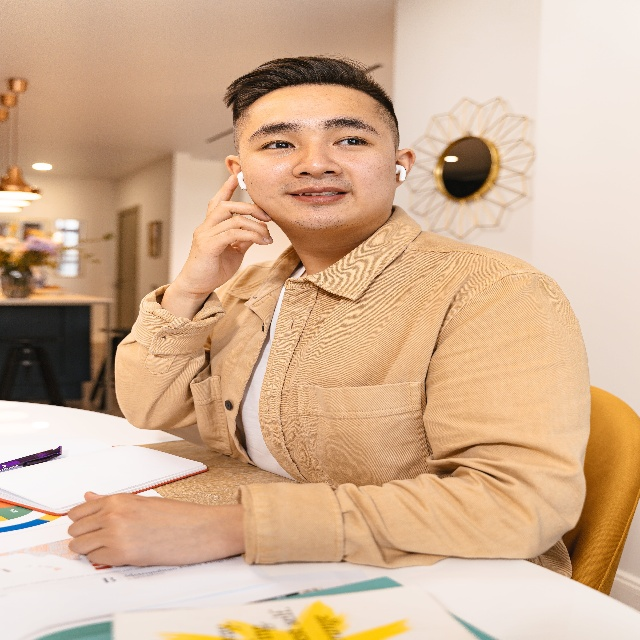Sin_guantes: (67, 485, 225, 570), (183, 171, 276, 293)
